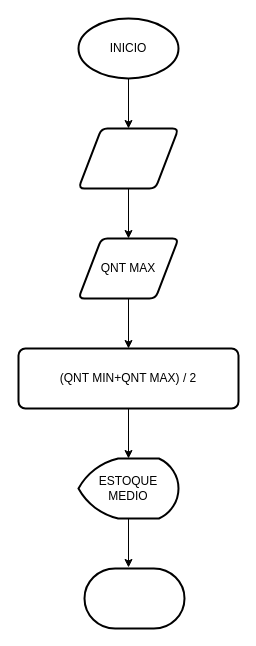
This 256x646 diagram has some shape labels left out. Each missing label, with the centre of its shape:
"FIM" belongs at pixel 134 598.
"QNT MIN" belongs at pixel 128 158.
